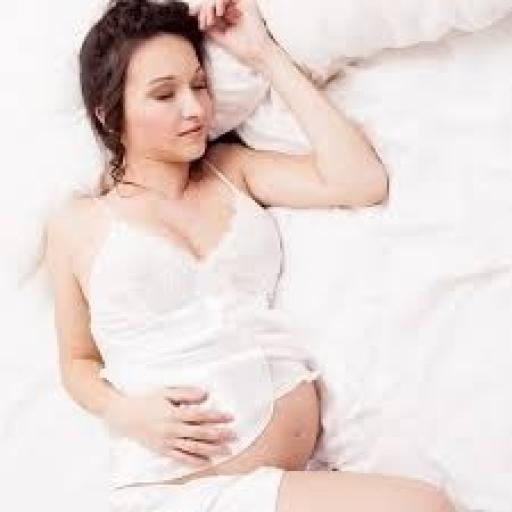sleeping: (39, 0, 471, 510)
